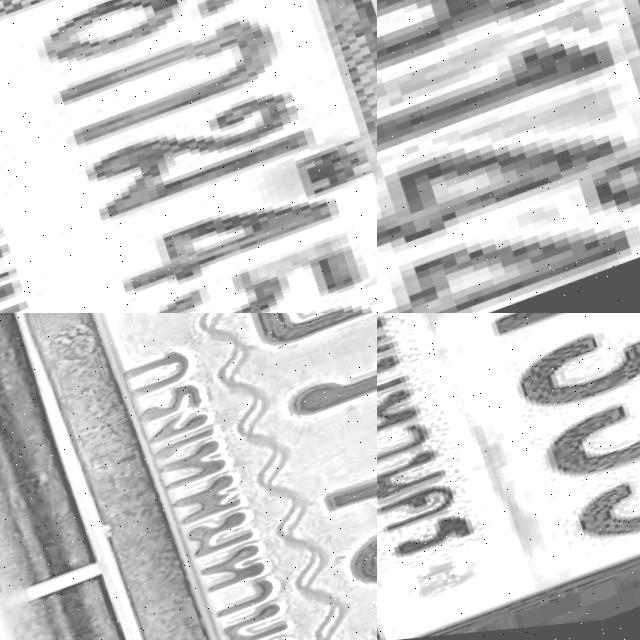license-plate: (5, 313, 377, 640), (0, 0, 377, 313), (377, 313, 640, 640), (377, 0, 640, 313)
